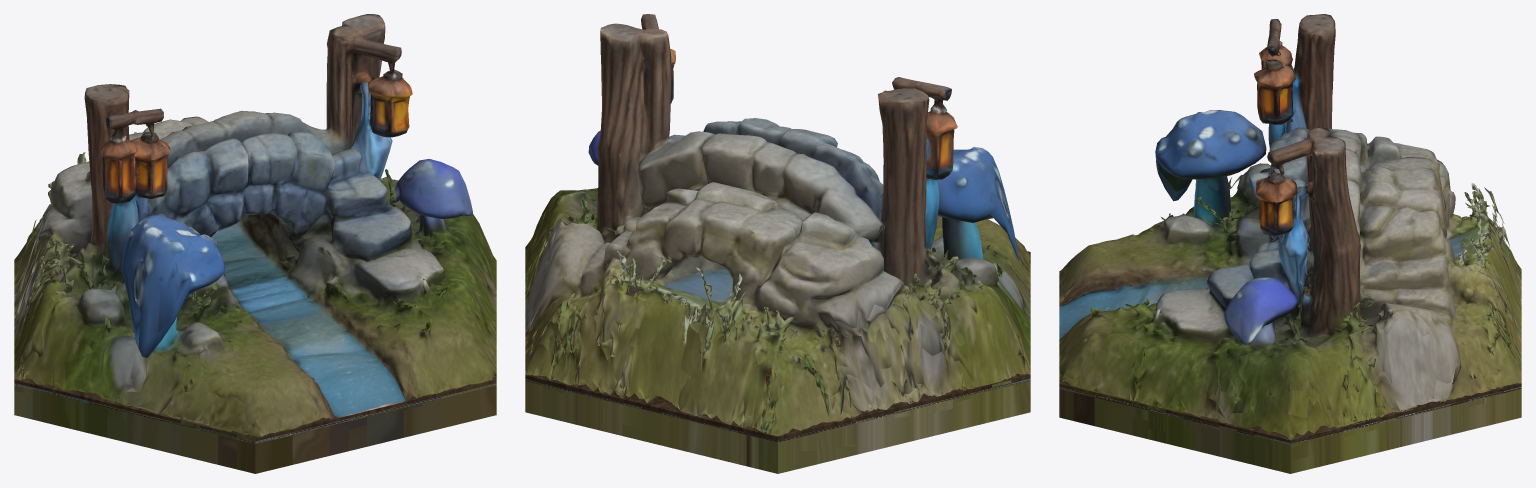
Rendered from hex_lantern_bridge.glb.
3 renders of one model, left to right at view 1: azimuth 30°, elevation 25°; view 2: azimuth 150°, elevation 25°; view 3: azimuth 270°, elevation 25°, orthographic. The views are drawn at different scales.
Visible parts, largest first — view 1: hex_lantern_bridge_s13_fit; view 2: hex_lantern_bridge_s13_fit; view 3: hex_lantern_bridge_s13_fit.
Boxes of the visible parts, x1,y1,x2,y2 form: hex_lantern_bridge_s13_fit: [14, 14, 496, 473]; hex_lantern_bridge_s13_fit: [525, 14, 1030, 473]; hex_lantern_bridge_s13_fit: [1059, 14, 1521, 473].
Bounding box in the file's own units: 5.11 × 2.92 × 4.42.
Materials: 1 (1 with a texture image).
